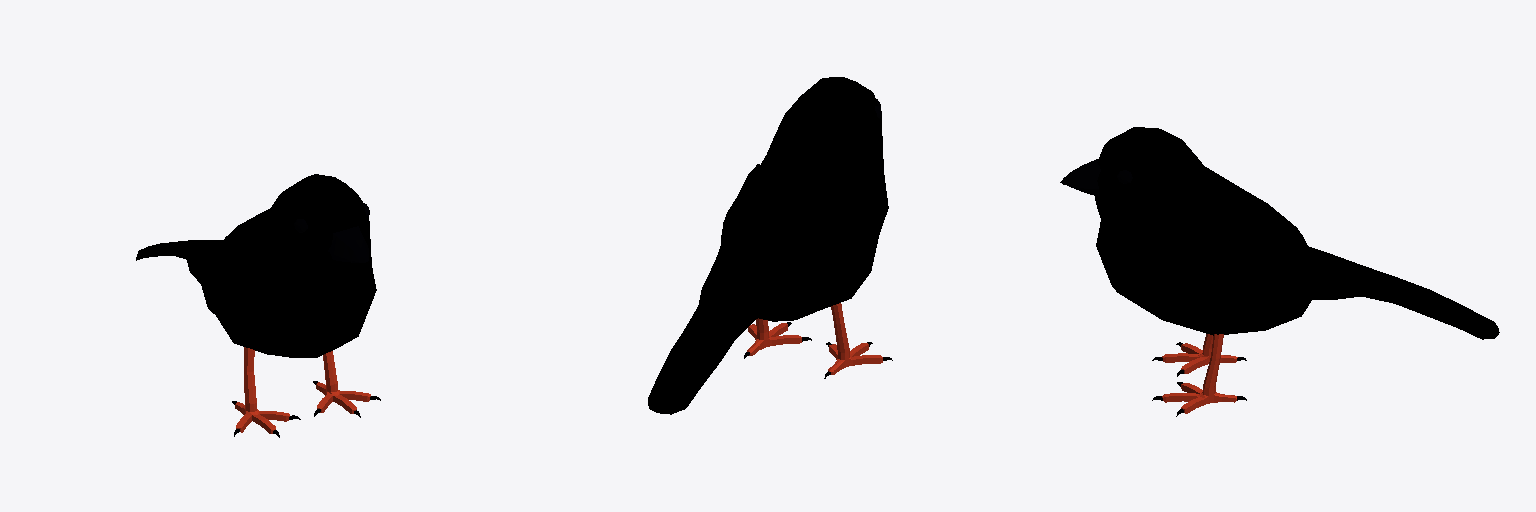
Rendered from sparrow.obj.
3 renders of one model, left to right at view 1: azimuth 30°, elevation 25°; view 2: azimuth 150°, elevation 25°; view 3: azimuth 270°, elevation 25°, orthographic.
Size of the model in its own units: 2.16 by 3.51 by 5.58.